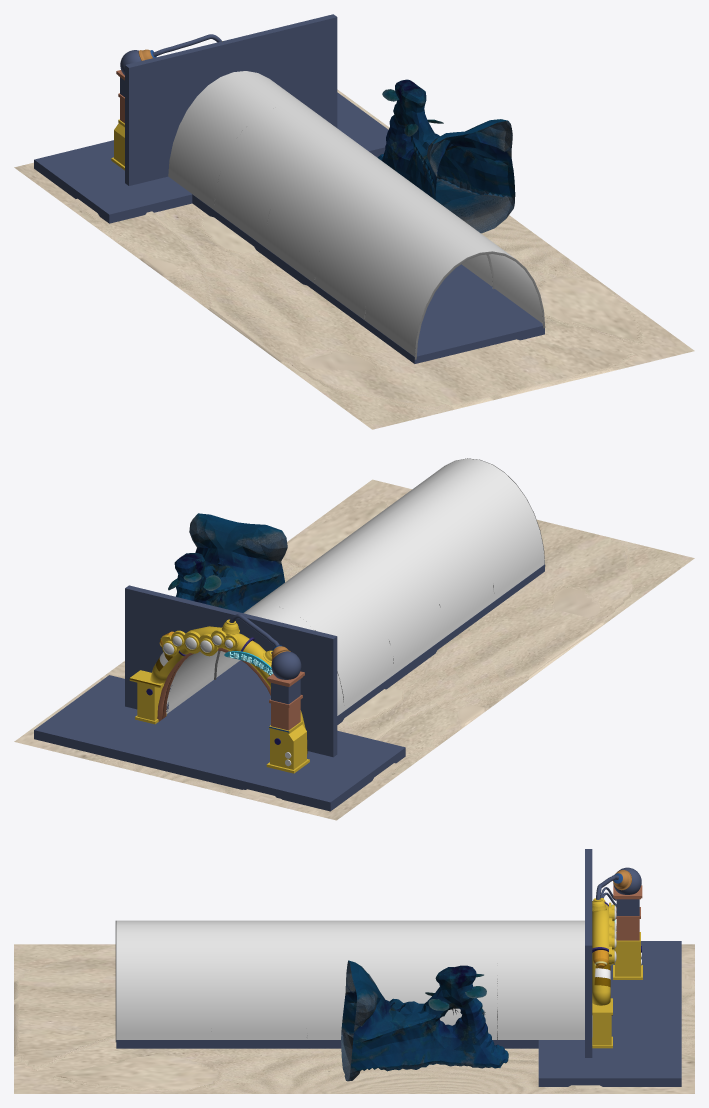
The model's file is Undersea tunnel1.fbx.
The picture shows the model from 3 angles, top to bottom: view 1: azimuth 30°, elevation 25°; view 2: azimuth 150°, elevation 25°; view 3: azimuth 270°, elevation 25°; orthographic projection. The views are drawn at different scales.
Visible parts, largest first — view 1: Landscape, 玻璃, 立方体, meshes[0], Cube, Cube.001, 圆环.006; view 2: 玻璃, Landscape, Cube.001, 立方体, meshes[0], Cube, 柱体, 立方体.005, 立方体.001, 球体, 圆环.004, 立方体.007 (+1 smaller); view 3: 玻璃, Landscape, meshes[0], Cube.001, Cube, 立方体, 柱体, 立方体.005, 立方体.001, 立方体.007, 立方体.009.
Part boxes in pixels (x1,y1,x2,y2): Landscape: (14,89,694,429); 玻璃: (168,71,542,356); 立方体: (125,14,337,185); meshes[0]: (378,79,515,233); Cube: (169,177,544,363); Cube.001: (34,92,388,223); 圆环.006: (414,251,545,359); 玻璃: (166,458,544,715); Landscape: (14,479,694,820); Cube.001: (34,675,405,811); 立方体: (125,585,337,757); meshes[0]: (168,513,287,612); Cube: (166,564,544,741); 柱体: (150,626,307,753); 立方体.005: (270,724,306,769); 立方体.001: (137,682,163,720); 球体: (271,651,301,679); 圆环.004: (157,648,270,721); 立方体.007: (271,700,300,730); 玻璃: (116,920,592,1039); Landscape: (14,944,694,1093); meshes[0]: (341,960,508,1081); Cube.001: (538,941,681,1086); Cube: (116,1040,538,1048); 立方体: (585,849,592,1057); 柱体: (592,904,610,1005); 立方体.005: (615,944,640,976); 立方体.001: (592,1015,611,1045); 立方体.007: (616,919,639,940); 立方体.009: (616,899,639,915).
Bounding box in the file's own units: 3715 × 1476 × 7147.
Materials: 18 (8 with a texture image).
